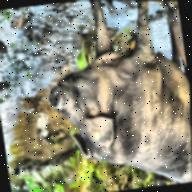boar: (35, 0, 192, 192)
